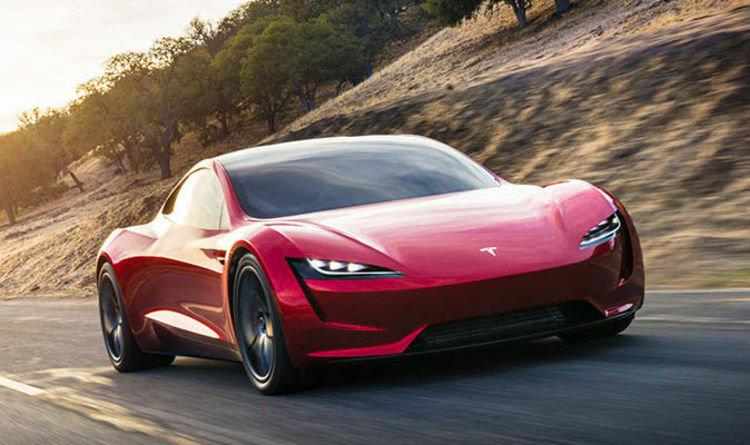car: (69, 134, 680, 400)
